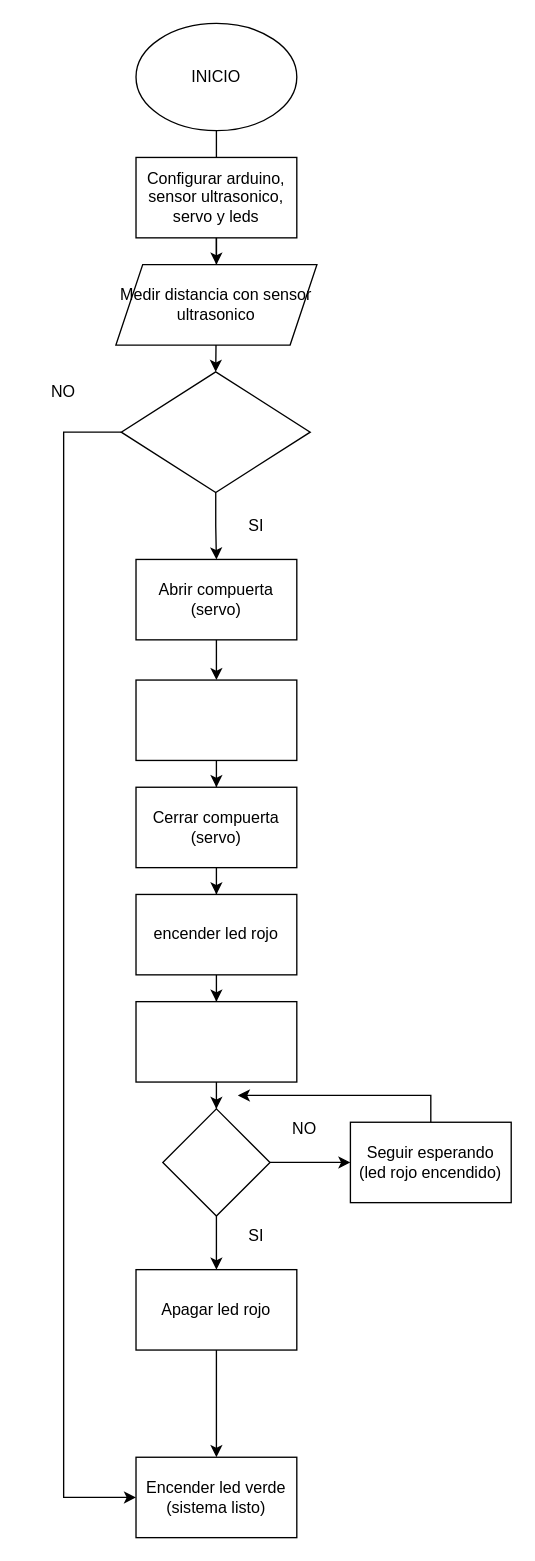
This 535x1561 diagram has some shape labels left out. Each missing label, with the centre of its shape:
"Distancia < 20cm" goes at (215,431).
"esperar 3 segundos" goes at (216,719).
"INICIAR COOLDOWN 30 MINUTOS" goes at (216,1041).
"Pasaron 30 min. ?" goes at (215,1162).
